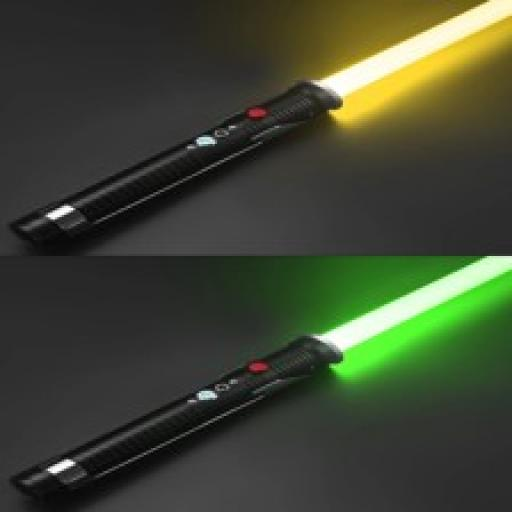lightsaber: (13, 1, 512, 249), (11, 256, 512, 499)
